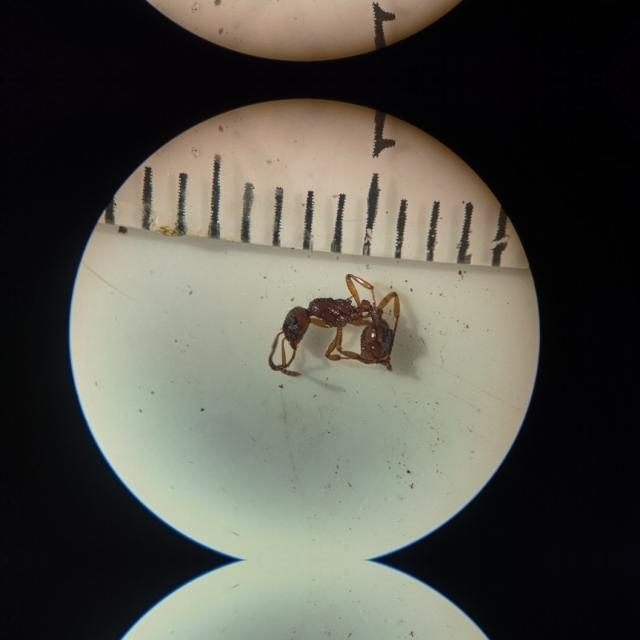Myrmica: (268, 269, 402, 373)
